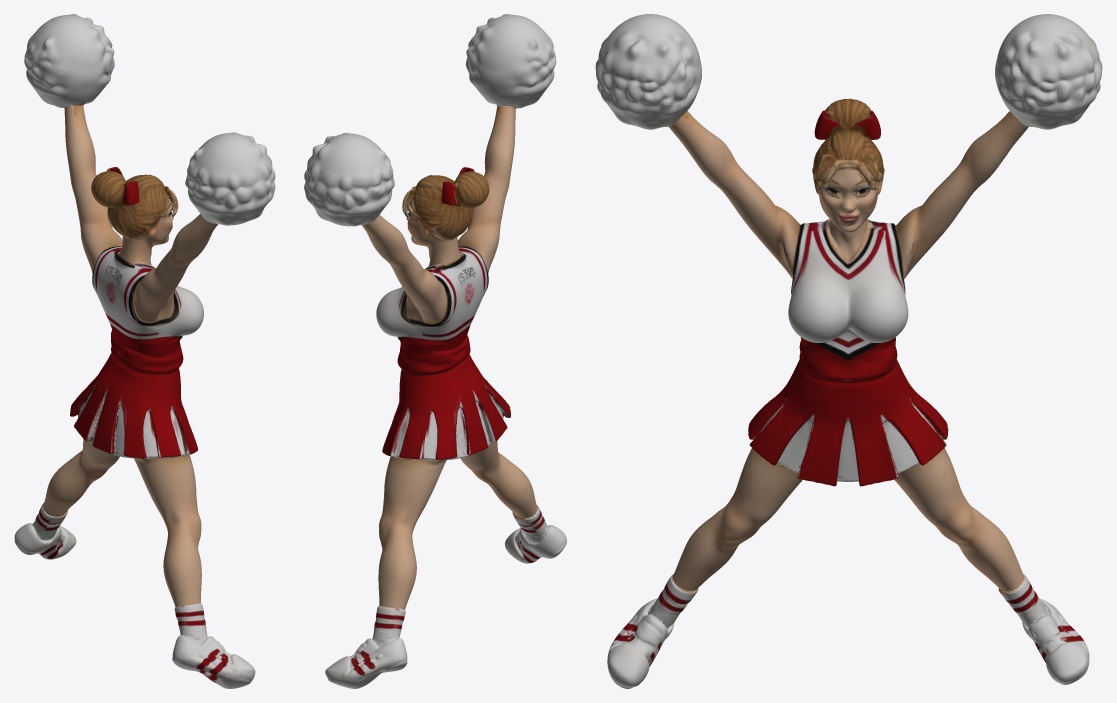
The picture shows the model from 3 angles, left to right: view 1: azimuth 30°, elevation 25°; view 2: azimuth 150°, elevation 25°; view 3: azimuth 270°, elevation 25°; orthographic projection. The views are drawn at different scales.
Parts seen in each view (by area): view 1: tripo_node_c737fe87-8868-4d4f-b8a2-b9ea998d64b1; view 2: tripo_node_c737fe87-8868-4d4f-b8a2-b9ea998d64b1; view 3: tripo_node_c737fe87-8868-4d4f-b8a2-b9ea998d64b1.
Boxes of the visible parts, box(x1,y1,x2,y2) form: tripo_node_c737fe87-8868-4d4f-b8a2-b9ea998d64b1: box(14, 14, 275, 688); tripo_node_c737fe87-8868-4d4f-b8a2-b9ea998d64b1: box(304, 14, 566, 688); tripo_node_c737fe87-8868-4d4f-b8a2-b9ea998d64b1: box(595, 14, 1102, 688).
Size of the model in its own units: 0.1934 by 1 by 0.6849.
Materials: 1 (1 with a texture image).
